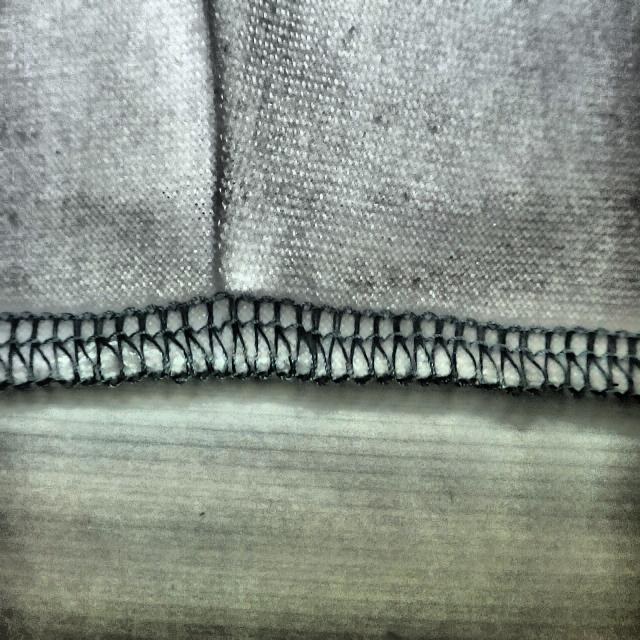seam: (169, 94, 279, 383)
